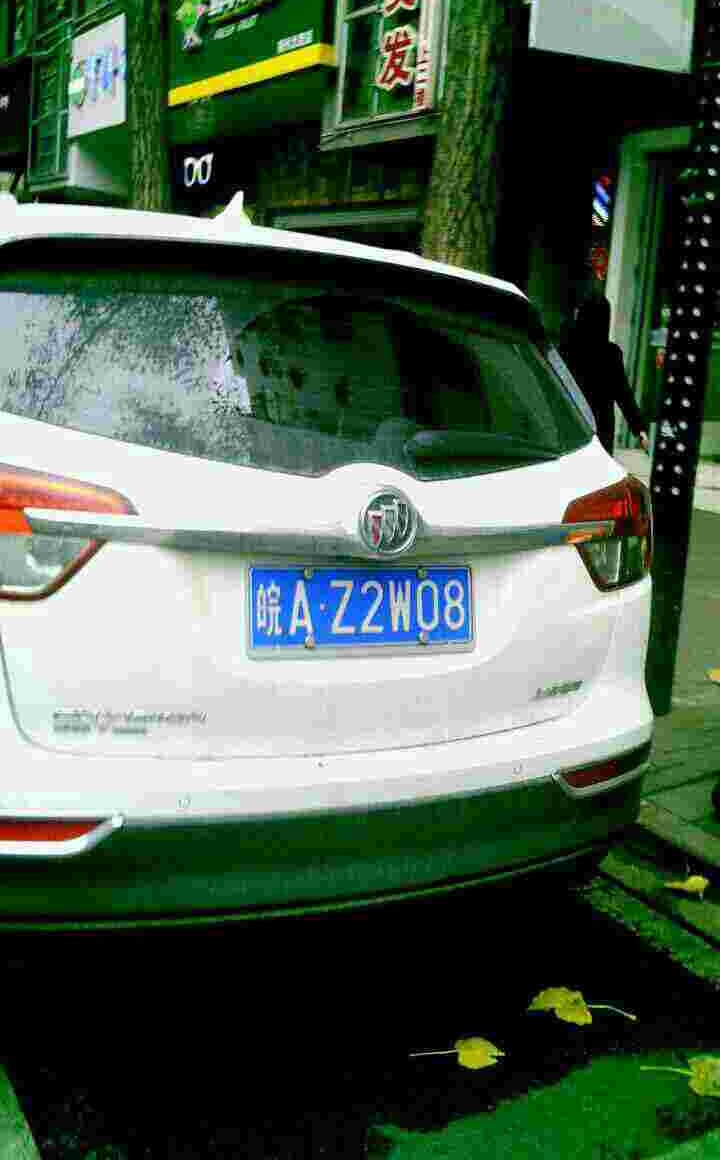license_plate: (253, 572, 477, 639)
